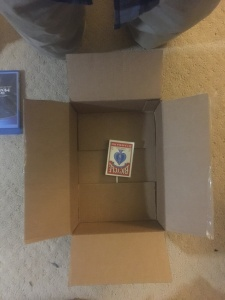innerbox: (69, 101, 167, 232)
outerbox: (25, 55, 213, 286)
product: (105, 139, 135, 180)
